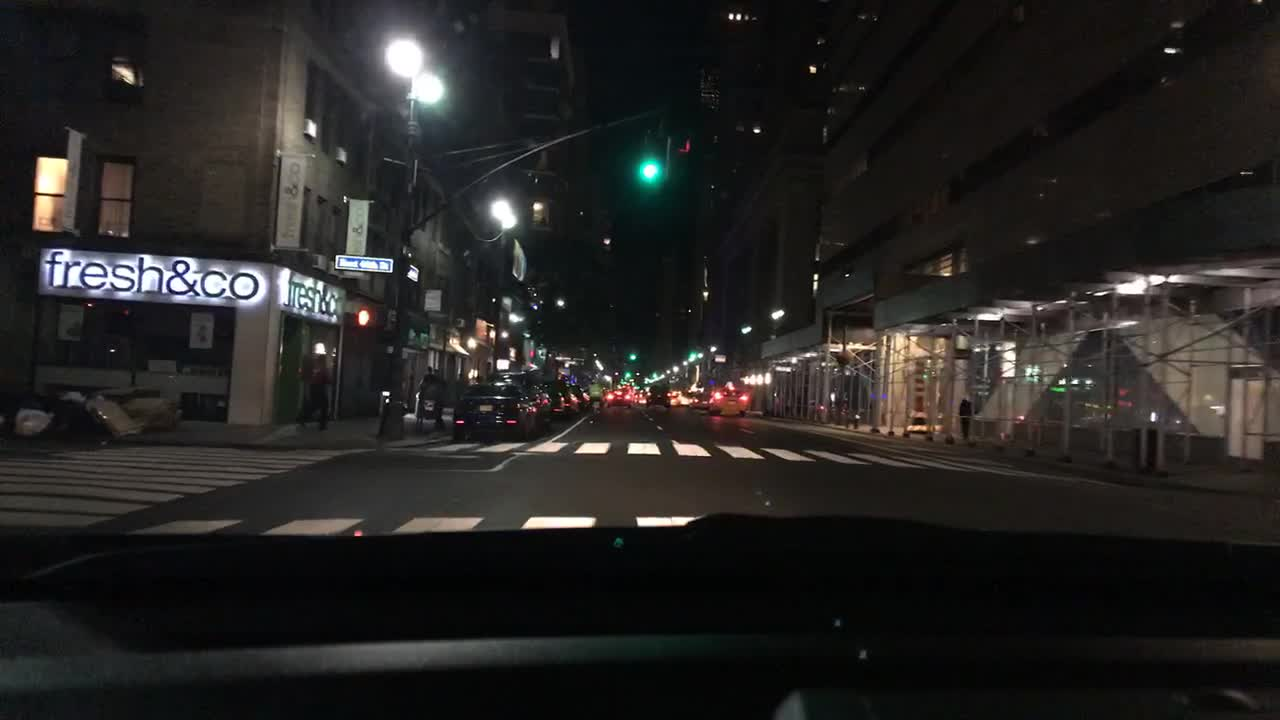car: (449, 378, 538, 445), (489, 368, 553, 428), (708, 381, 749, 417), (558, 376, 585, 415), (541, 374, 565, 417), (643, 385, 678, 408), (600, 385, 633, 407), (570, 381, 592, 412), (690, 388, 712, 410), (676, 388, 692, 407), (633, 388, 648, 405)
person: (292, 353, 336, 435), (955, 395, 975, 439), (415, 364, 435, 396)
traffic light: (663, 123, 693, 182), (638, 125, 660, 182), (351, 304, 374, 327), (624, 342, 636, 361), (687, 342, 698, 361), (621, 363, 631, 380)
traffic sign: (334, 255, 391, 272), (406, 263, 420, 280)
